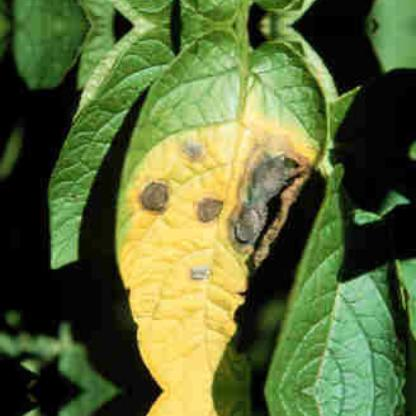Early-Blight: (116, 26, 346, 390)
